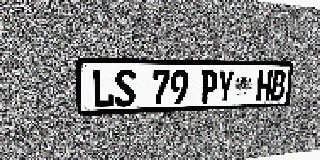7: (151, 70, 171, 105)
9: (170, 70, 189, 105)
B: (270, 70, 286, 100)
H: (256, 70, 273, 101)
L: (92, 69, 114, 108)
P: (200, 70, 218, 103)
S: (115, 69, 136, 107)
Y: (216, 70, 234, 103)
